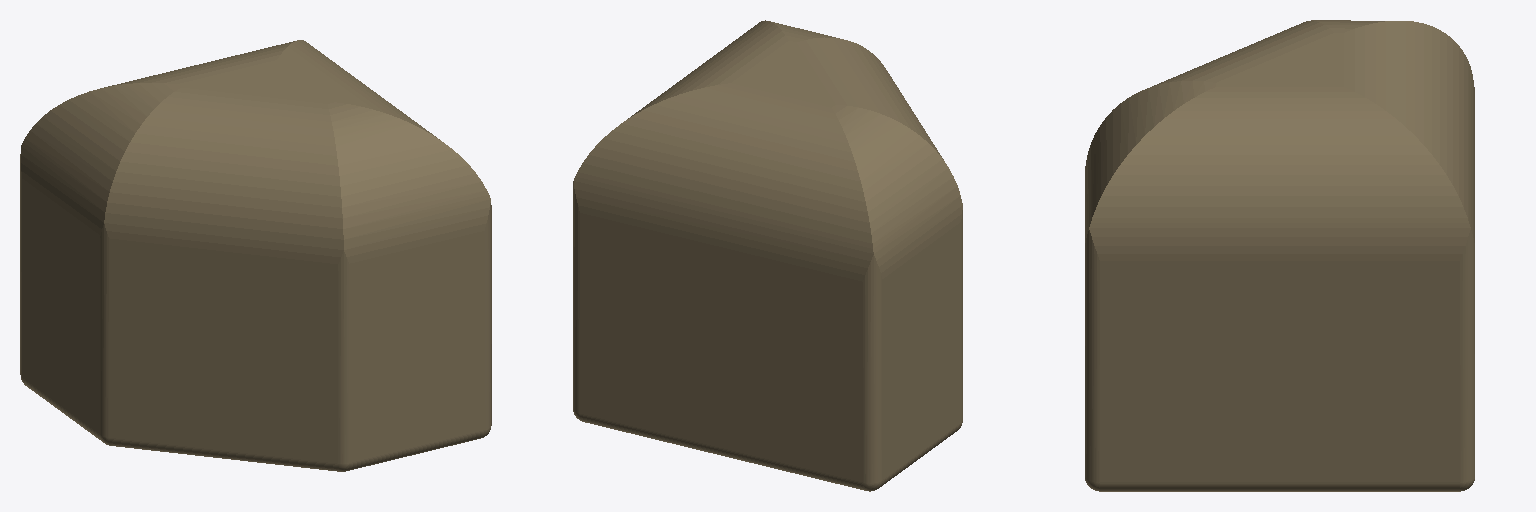
URDF robot description (house_rounded_face):
<?xml version="1.0"?>
<robot name="house_rounded_face">
  <link name="base_link">
    <visual>
      <origin xyz="0 0 0" rpy="0 0 0" />
      <geometry>
        <mesh filename="house_rounded_face.obj"/>      
      </geometry>
      <material name="tan">
        <color rgba="0.55 0.5 0.4 1"/>
      </material>
    </visual>
    <collision>
      <origin xyz="0 0 0" rpy="0 0 0" />
      <geometry>
        <mesh filename="house_rounded_face.obj"/>
      </geometry>
    </collision>
  </link>
</robot>

--- Render facts (derived) ---
3 views of the same robot in one strip: view 1: azimuth 30°, elevation 25°; view 2: azimuth 150°, elevation 25°; view 3: azimuth 270°, elevation 25° (orthographic).
Robot: house_rounded_face — 1 links, 0 joints (none); root link base_link; default pose: every joint at zero.
Visible links, largest first — view 1: base_link; view 2: base_link; view 3: base_link.
Link boxes in pixels (x1=…): base_link: x1=20, y1=40, x2=491, y2=471; base_link: x1=573, y1=20, x2=962, y2=491; base_link: x1=1085, y1=20, x2=1474, y2=491.
Bounding box of the posed robot: 31.75 × 31.75 × 31.75 m (x, y, z).
1 mesh visuals loaded from 1 distinct referenced files (1 OBJ).
